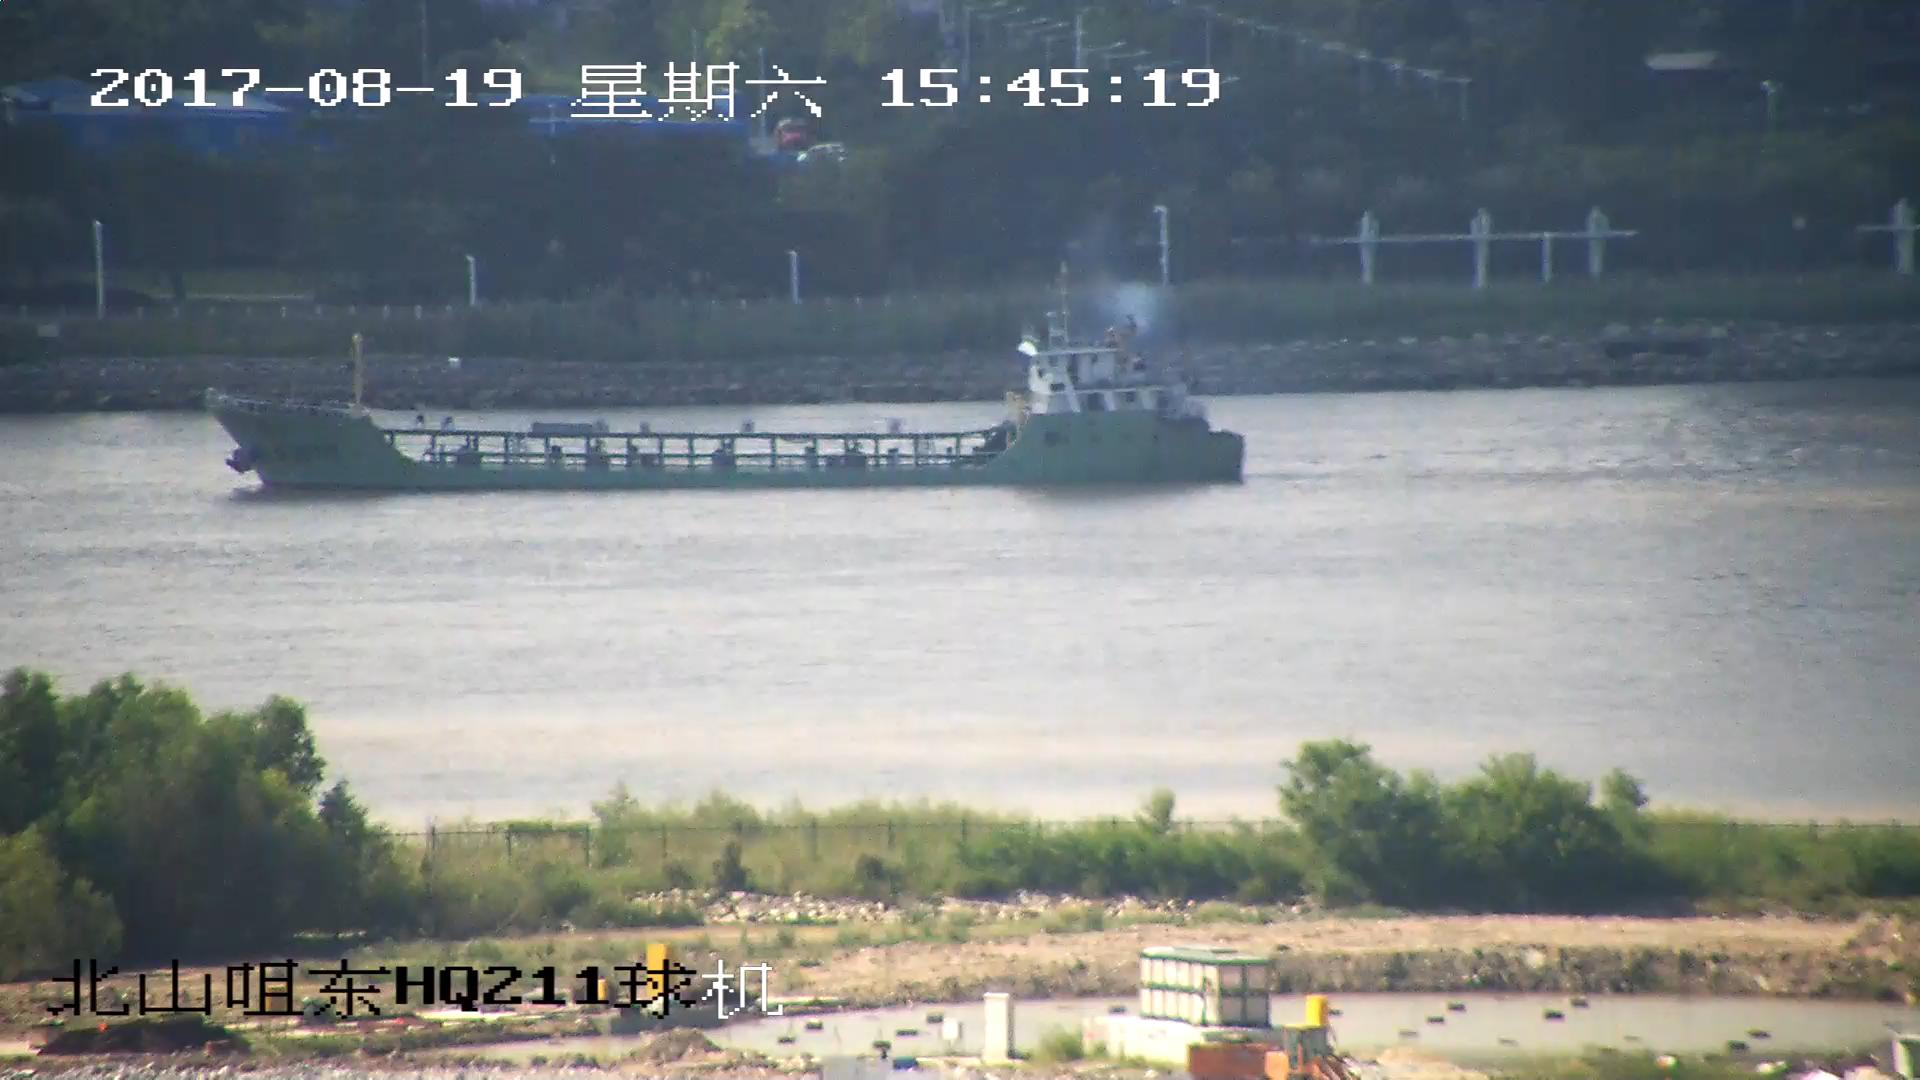general cargo ship: (207, 299, 1245, 494)
